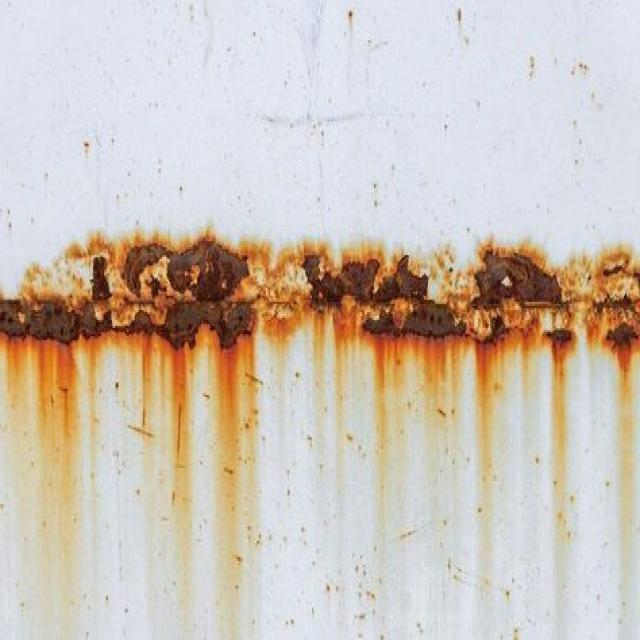Corrosion: (122, 238, 254, 348), (306, 256, 466, 338), (474, 244, 565, 306), (0, 300, 113, 344), (159, 303, 255, 347), (607, 323, 640, 346), (130, 312, 158, 332), (546, 328, 574, 344), (164, 248, 173, 256)
